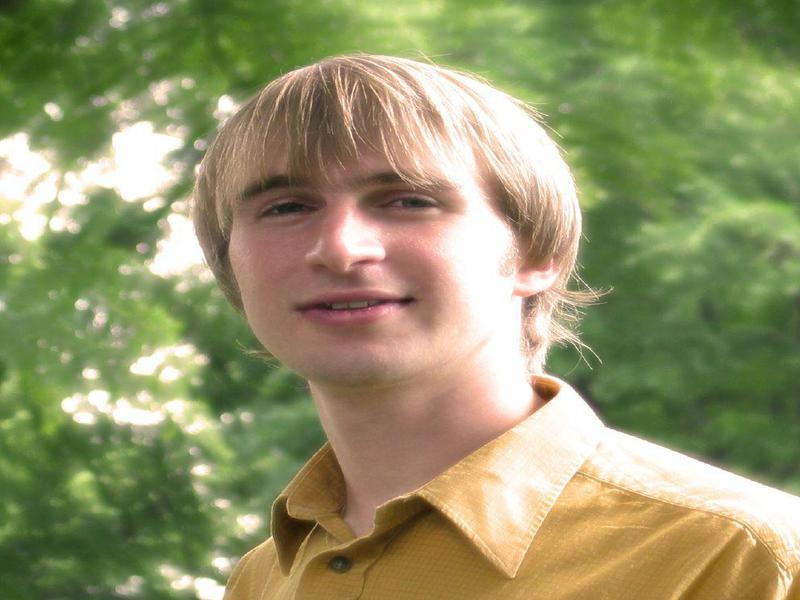person: (191, 46, 786, 600)
